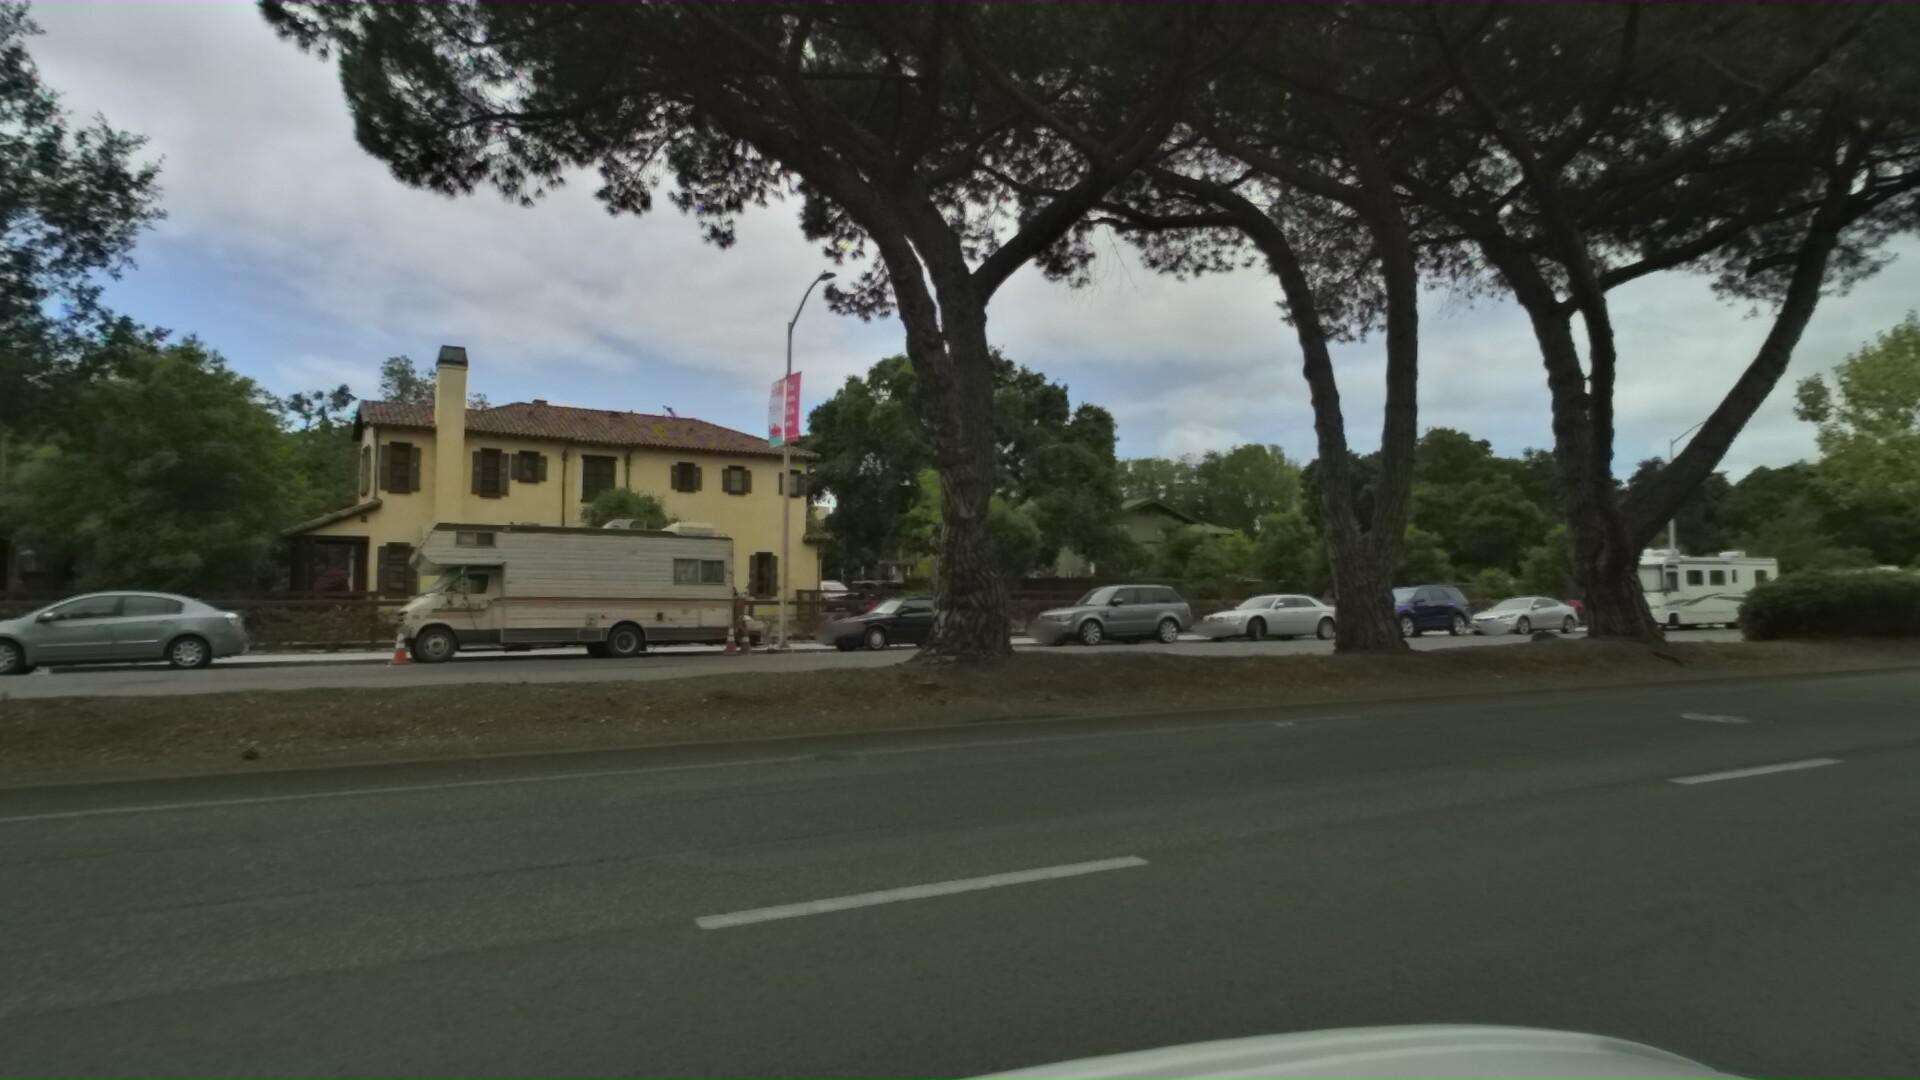car: (785, 588, 981, 653), (1000, 578, 1185, 645), (1170, 585, 1338, 641), (1319, 576, 1473, 636), (1437, 584, 1578, 632)
other_vehicle: (352, 497, 785, 665), (1563, 525, 1782, 632), (1803, 551, 1920, 618)
